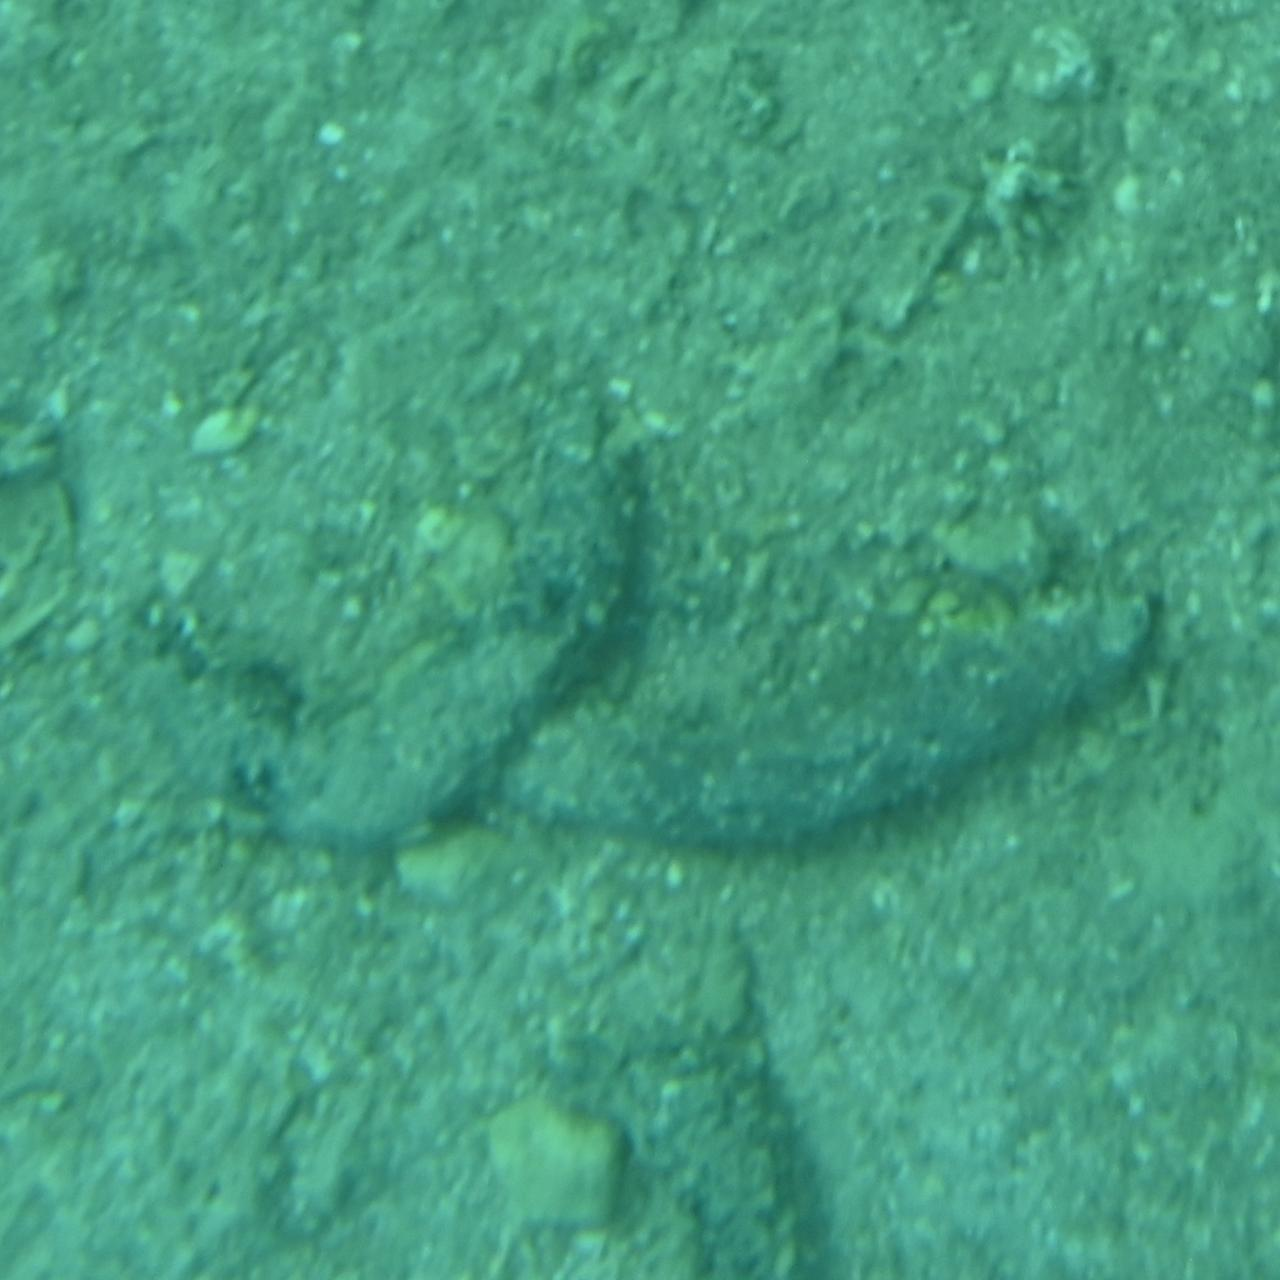Holothuria tubulosa: (251, 355, 658, 865), (483, 598, 1171, 874)
